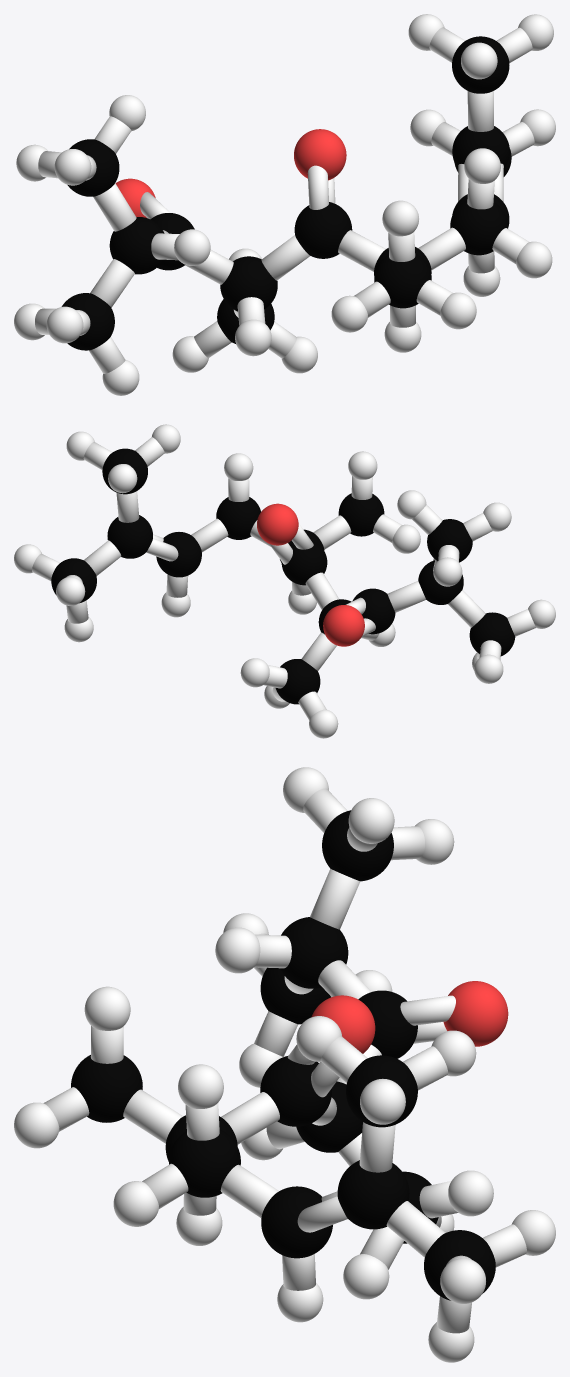
3 views of the same model, one above another, from view 1: azimuth 30°, elevation 25°; view 2: azimuth 150°, elevation 25°; view 3: azimuth 270°, elevation 25° (orthographic). The views are drawn at different scales.
Parts seen in each view (by area): view 1: molecule; view 2: molecule; view 3: molecule.
Part boxes in pixels (x1,y1,x2,y2): molecule: (14, 14, 555, 395); molecule: (14, 424, 555, 738); molecule: (14, 767, 555, 1362).
Size of the model in its own units: 11.15 by 5.67 by 7.08.
